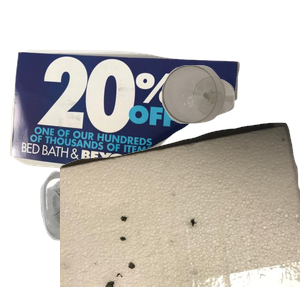glass: (159, 63, 300, 179)
paper: (10, 41, 242, 207)
plastic: (38, 165, 255, 300)
trash: (60, 120, 300, 300)
